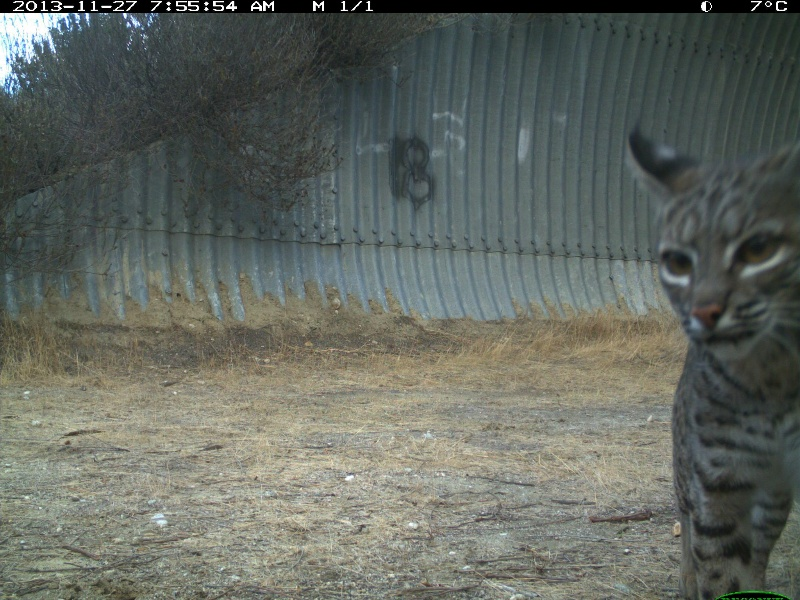cat: (619, 123, 800, 580)
